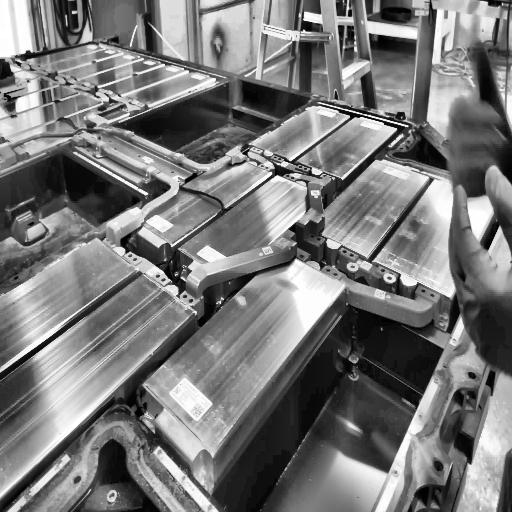busbar: (0, 56, 445, 330)
